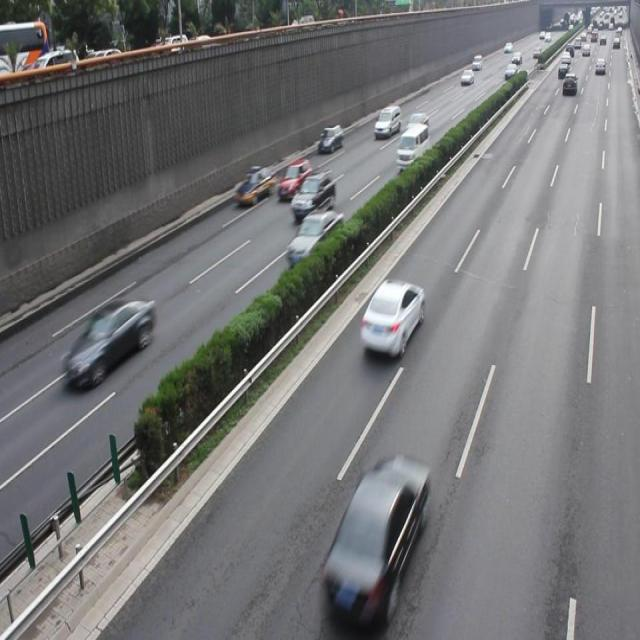car: (322, 456, 427, 608), (62, 297, 154, 386), (357, 279, 423, 359), (284, 208, 343, 266), (290, 171, 335, 217), (234, 165, 274, 202), (277, 157, 310, 200)
truck: (394, 124, 428, 171)
